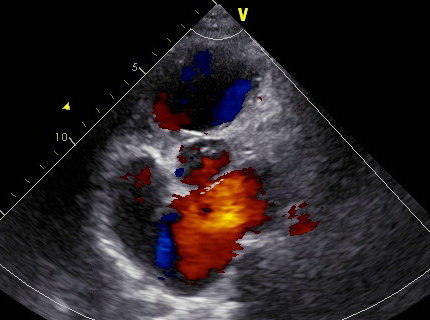PR: (189, 176, 265, 258)
